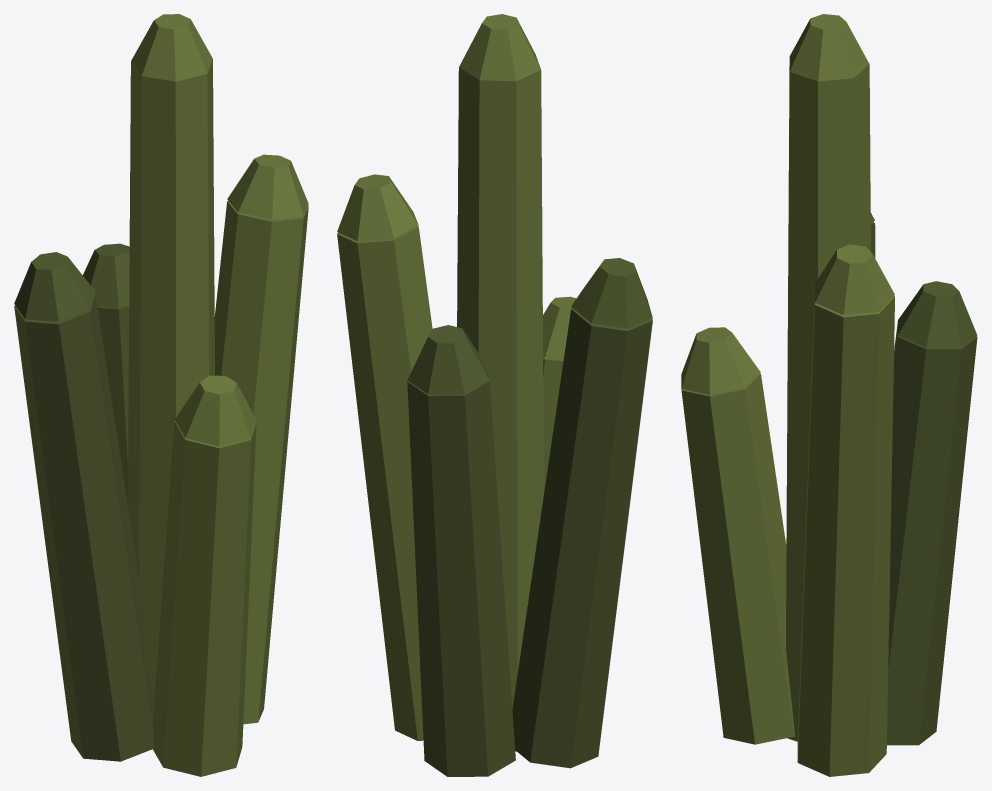
The model's file is cactus.glb.
The picture shows the model from 3 angles, left to right: view 1: azimuth 30°, elevation 25°; view 2: azimuth 150°, elevation 25°; view 3: azimuth 270°, elevation 25°; orthographic projection.
Visible parts, largest first — view 1: cactus; view 2: cactus; view 3: cactus.
Part boxes in pixels (x1,y1,x2,y2): cactus: [14, 14, 308, 776]; cactus: [337, 14, 652, 776]; cactus: [681, 14, 977, 776].
Bounding box in the file's own units: 0.4342 × 1.01 × 0.3793.
